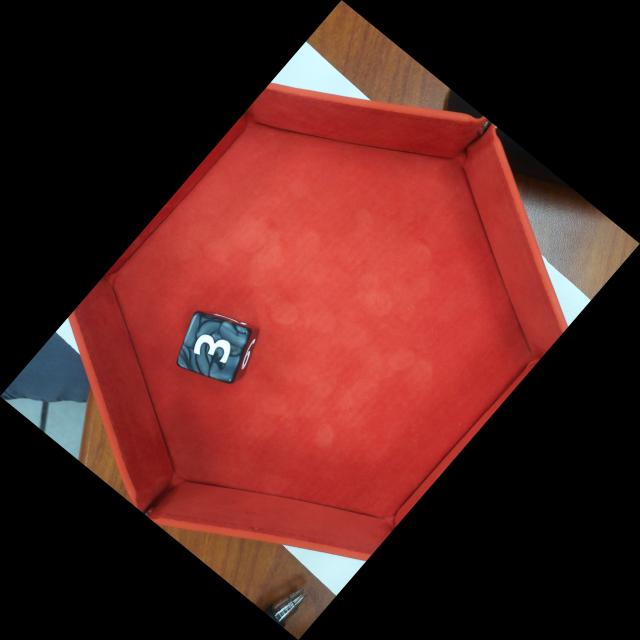dice: (173, 312, 250, 385)
